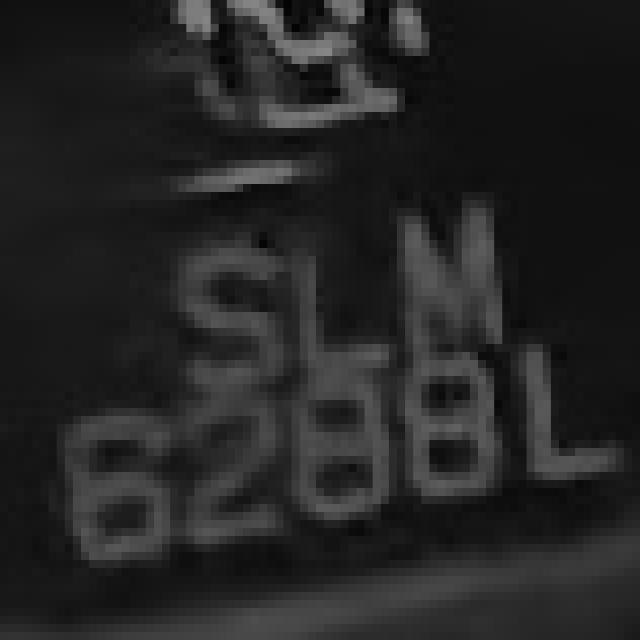2: (162, 384, 292, 584)
6: (41, 376, 162, 592)
8: (251, 344, 397, 520), (397, 352, 502, 528)
L: (259, 232, 381, 384), (494, 320, 608, 480)
M: (397, 168, 510, 328)
S: (138, 248, 284, 400)
